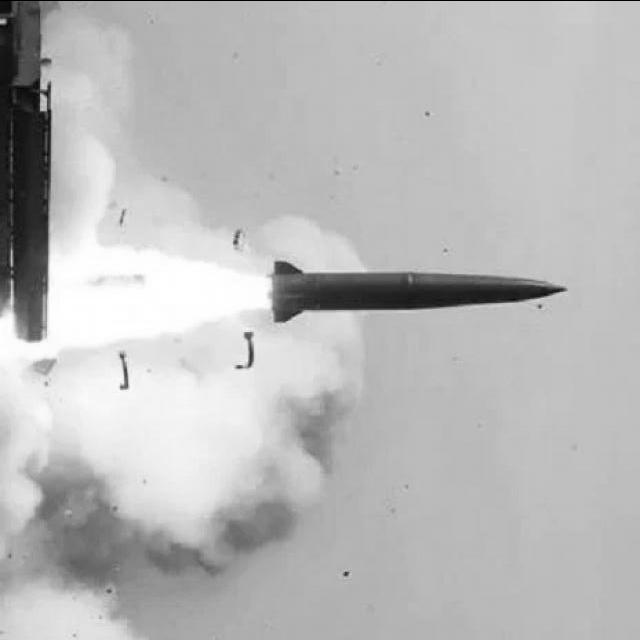missile: (255, 249, 566, 331)
